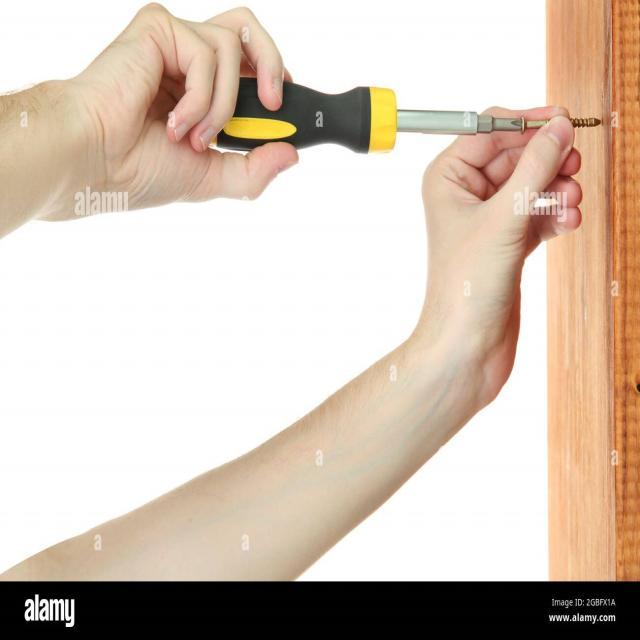screwdriver: (178, 71, 523, 161)
